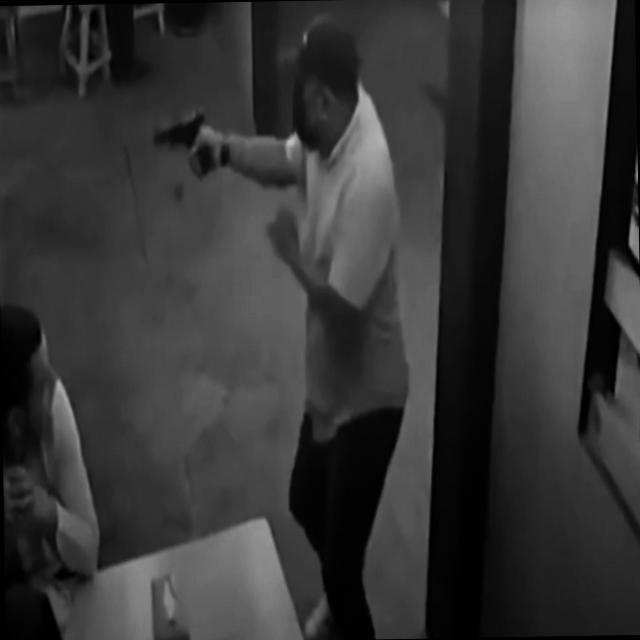gun: (153, 112, 213, 178)
person: (0, 305, 99, 584)
person with a gun: (189, 10, 415, 640)
